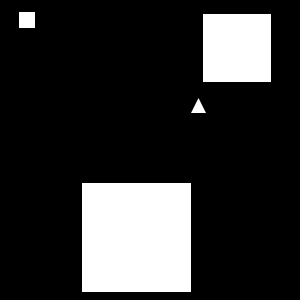circle: (82, 183, 191, 292), (203, 14, 271, 82), (19, 12, 35, 28)
triangle: (191, 98, 206, 113)
